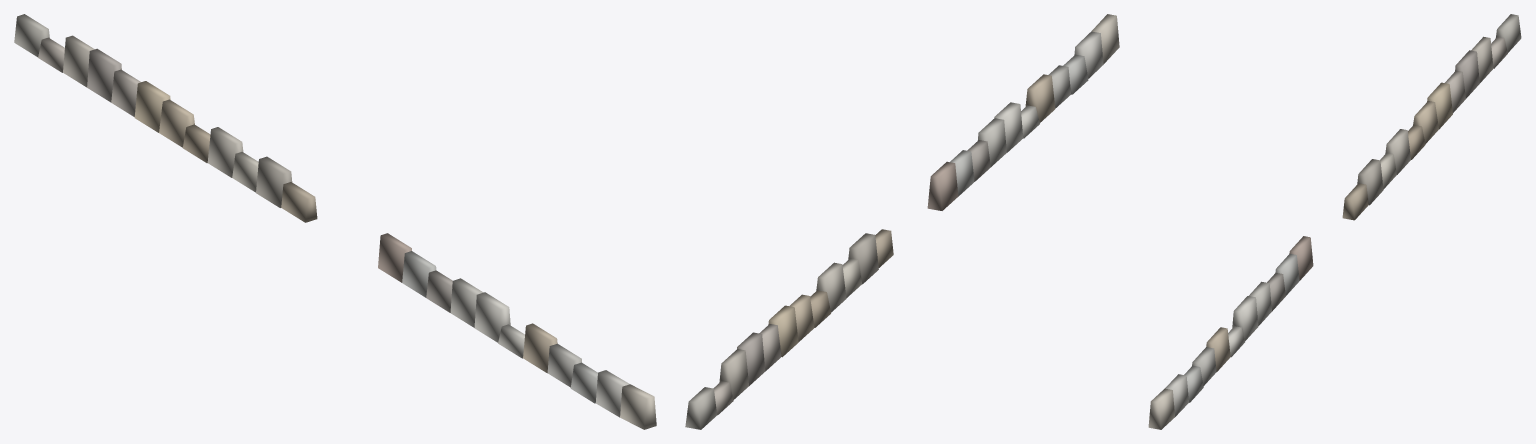
The model's file is farm_47_30_collision.glb.
3 views of the same model, side by side, from view 1: azimuth 30°, elevation 25°; view 2: azimuth 150°, elevation 25°; view 3: azimuth 330°, elevation 25° (orthographic). The views are drawn at different scales.
Parts seen in each view (by area): view 1: geometry_0; view 2: geometry_0; view 3: geometry_0.
Boxes of the visible parts, x1,y1,x2,y2 form: geometry_0: (14,14,656,429); geometry_0: (685,14,1119,429); geometry_0: (1148,14,1521,429).
Size of the model in its own units: 5.65 by 2.93 by 40.37.
